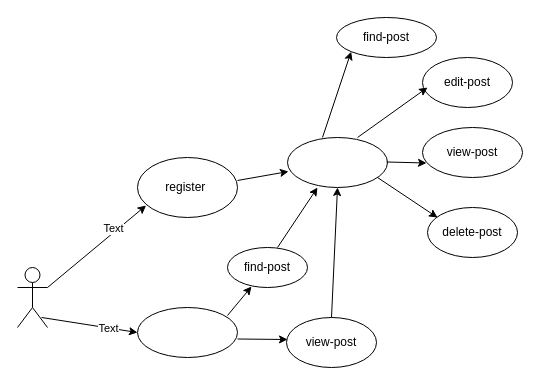
Some shapes in this 540 by 385 pixel diagram are drawn without their labels. The centre of each missing label's shape, as x and y in pixels:
"Actor" goes at (32,297).
"post-ads" goes at (337,162).
"register as buyer" goes at (187,332).
